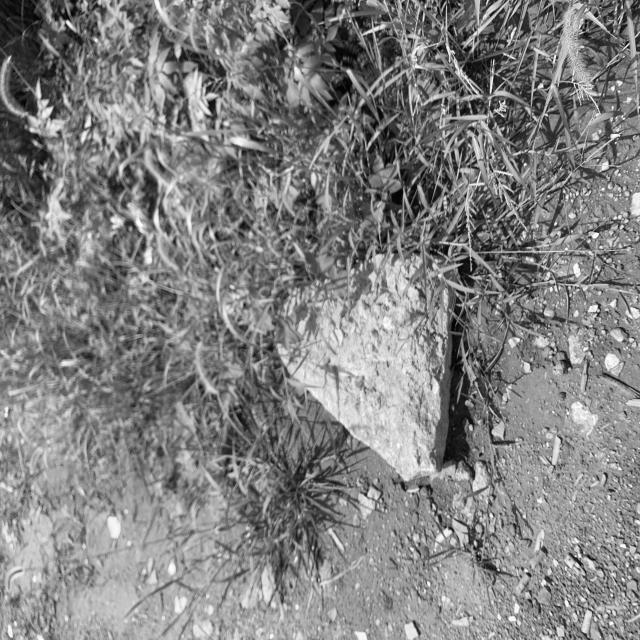Stone: (279, 255, 451, 481)
